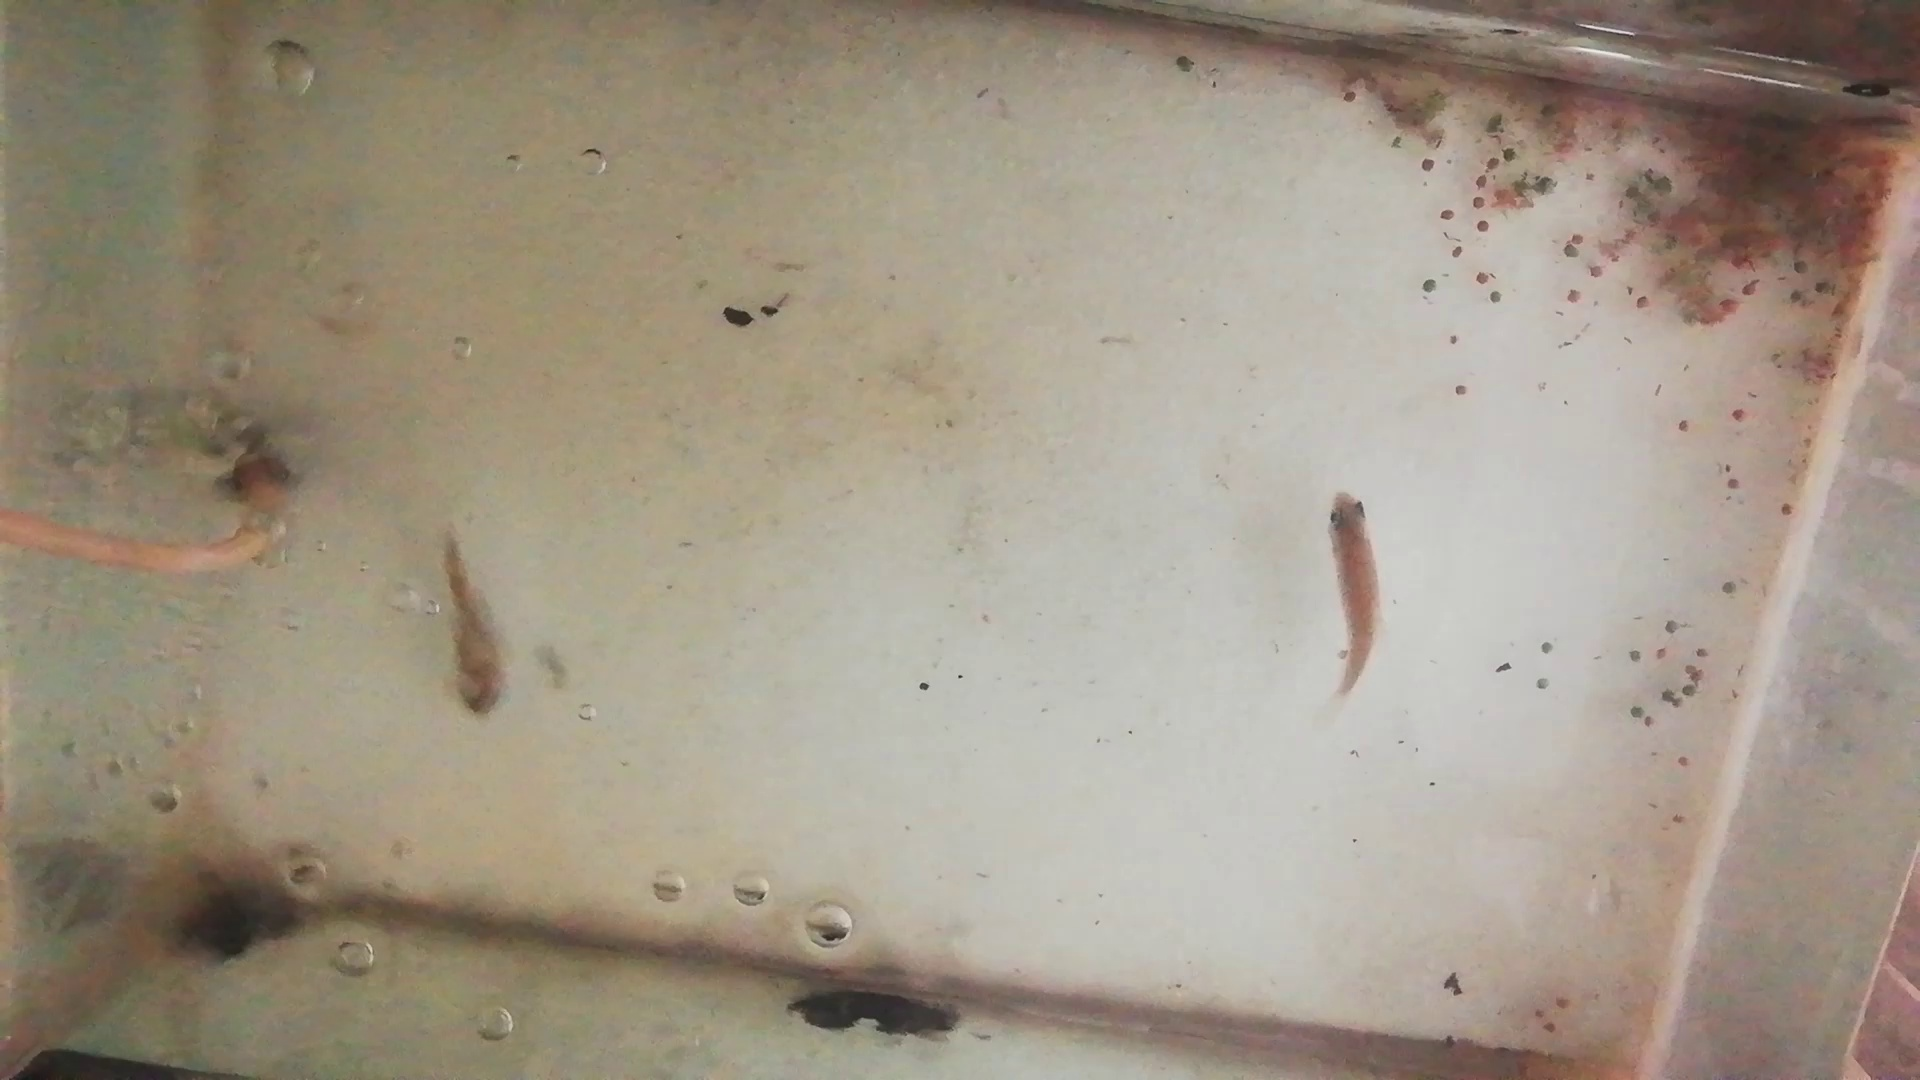fish: (436, 518, 508, 717), (1321, 487, 1381, 699)
